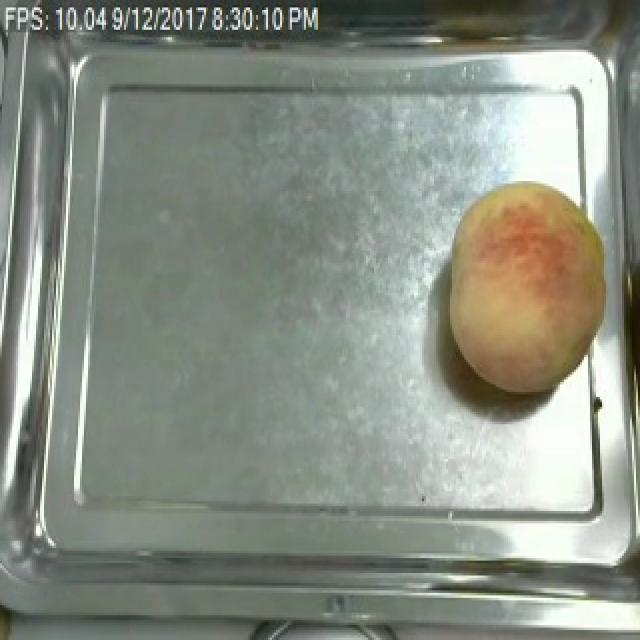Fruit: (438, 176, 620, 402)
